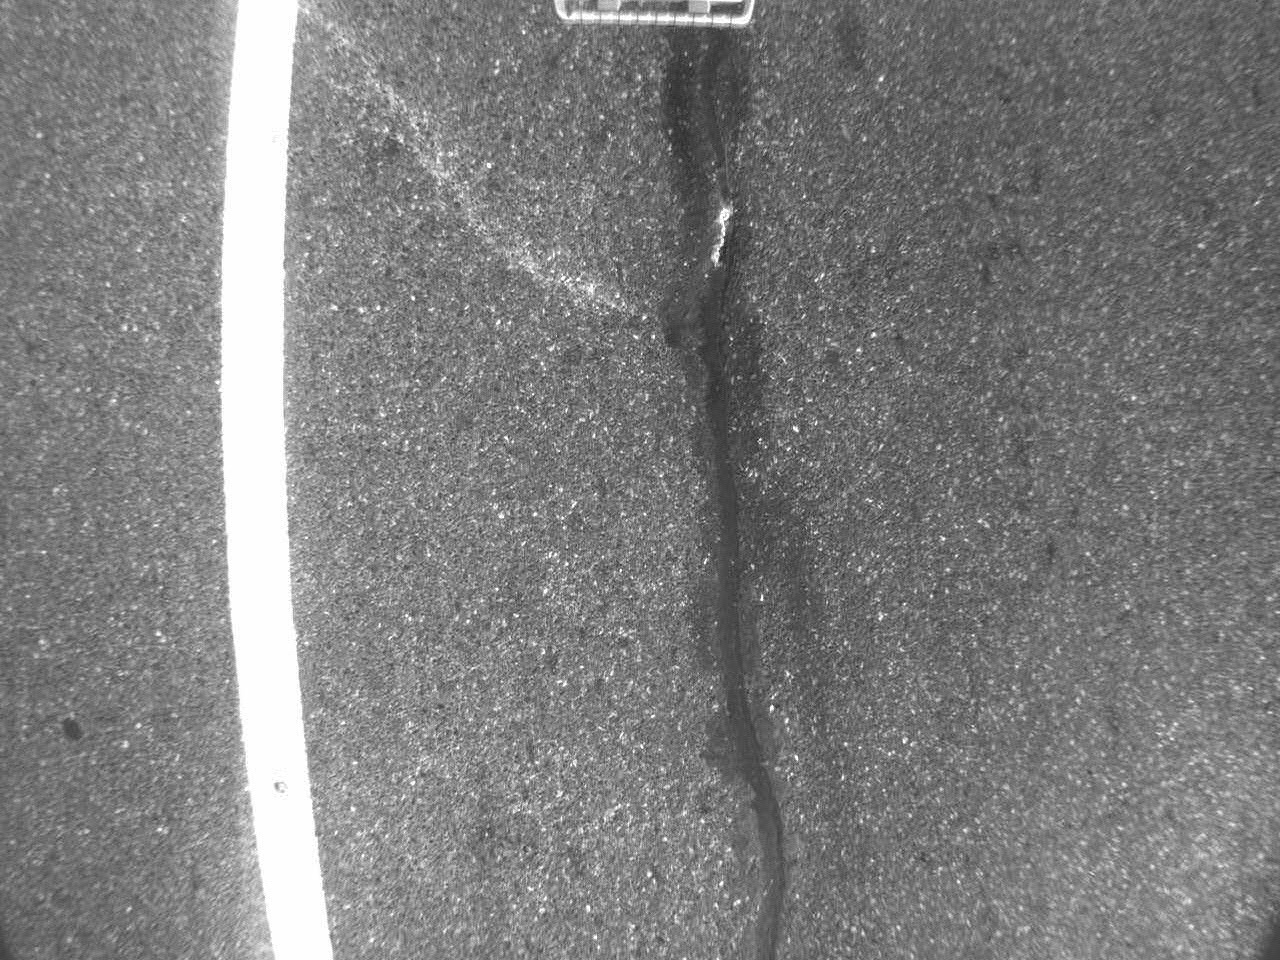sealed: (672, 199, 808, 955)
